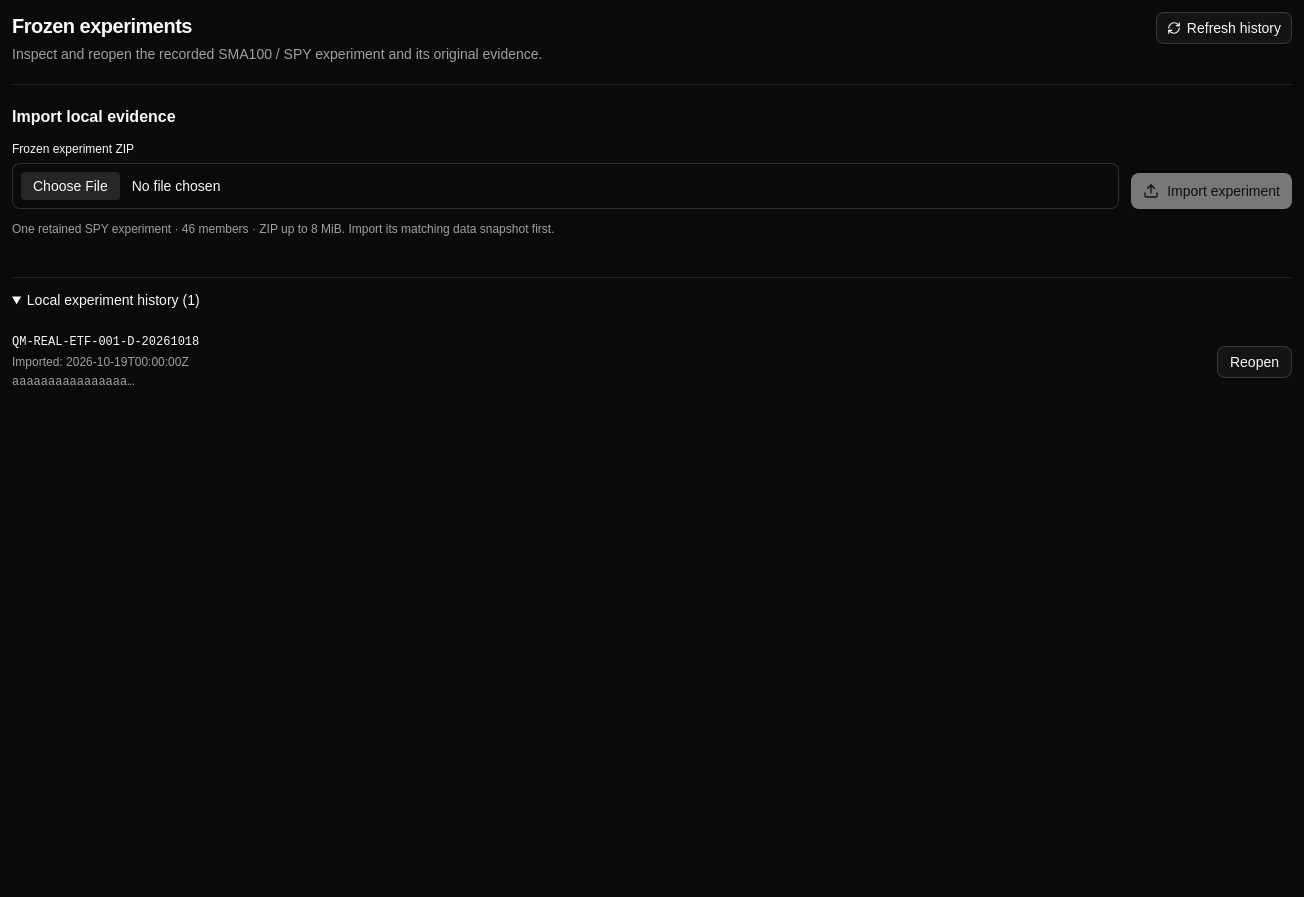
reopens stored evidence through the API
Click the button with aria-label "Reopen QM-REAL".
click(1254, 362)  # box [1217, 346, 1292, 378]
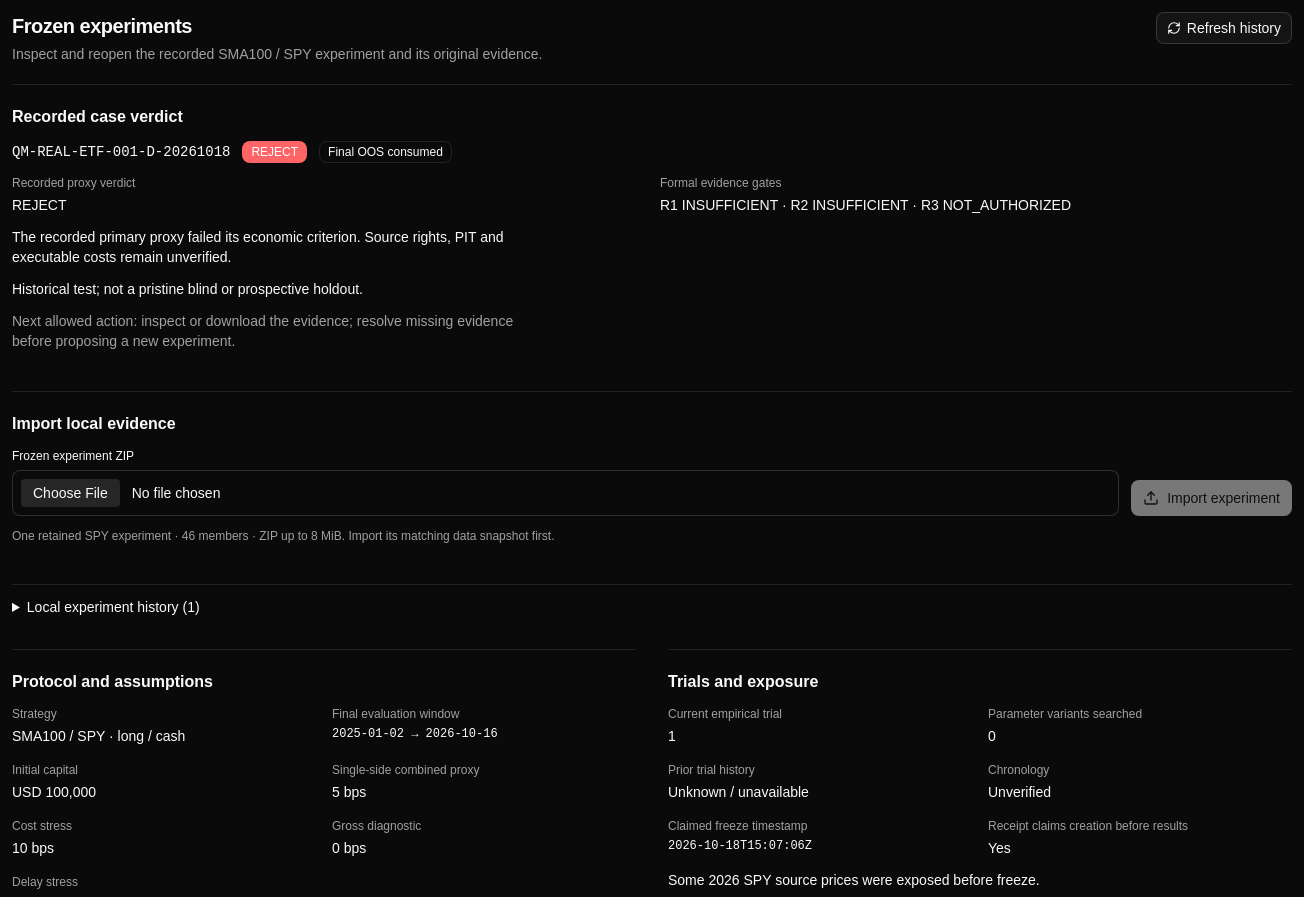
Now the element "Recorded case verdict" is shown, box [12, 84, 1292, 371]
